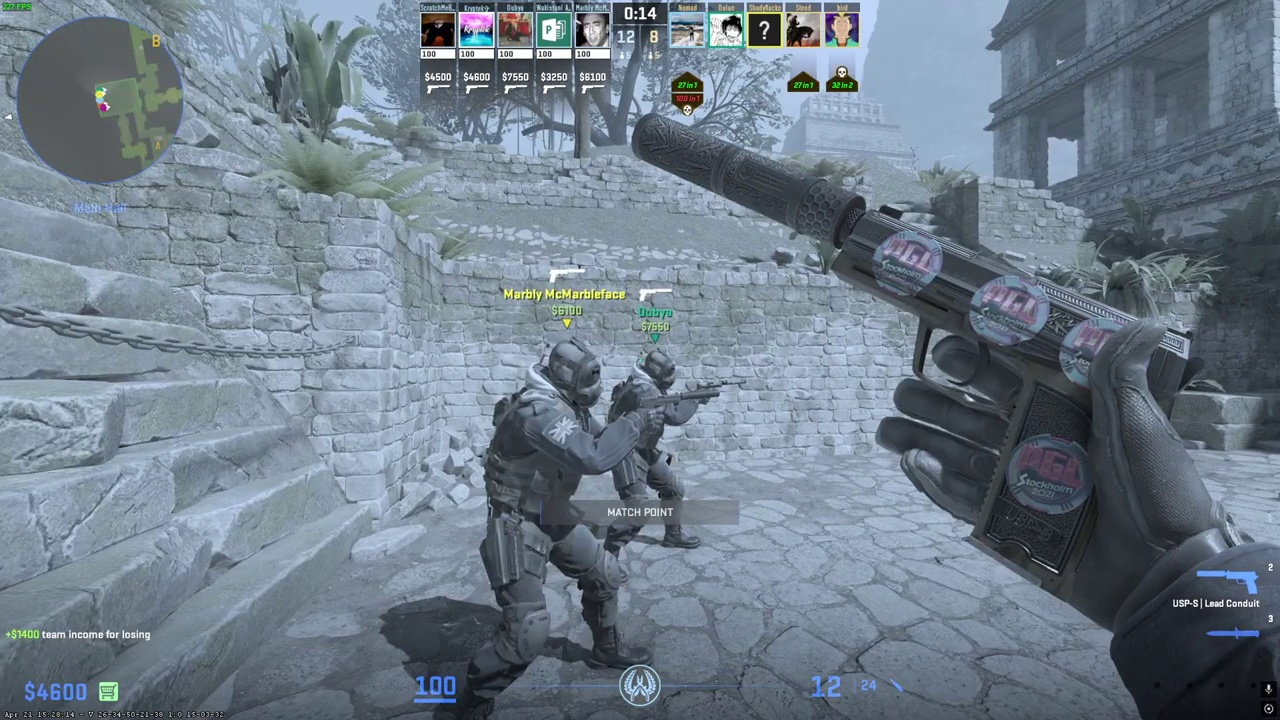CT: (479, 336, 630, 678), (608, 348, 710, 559)
